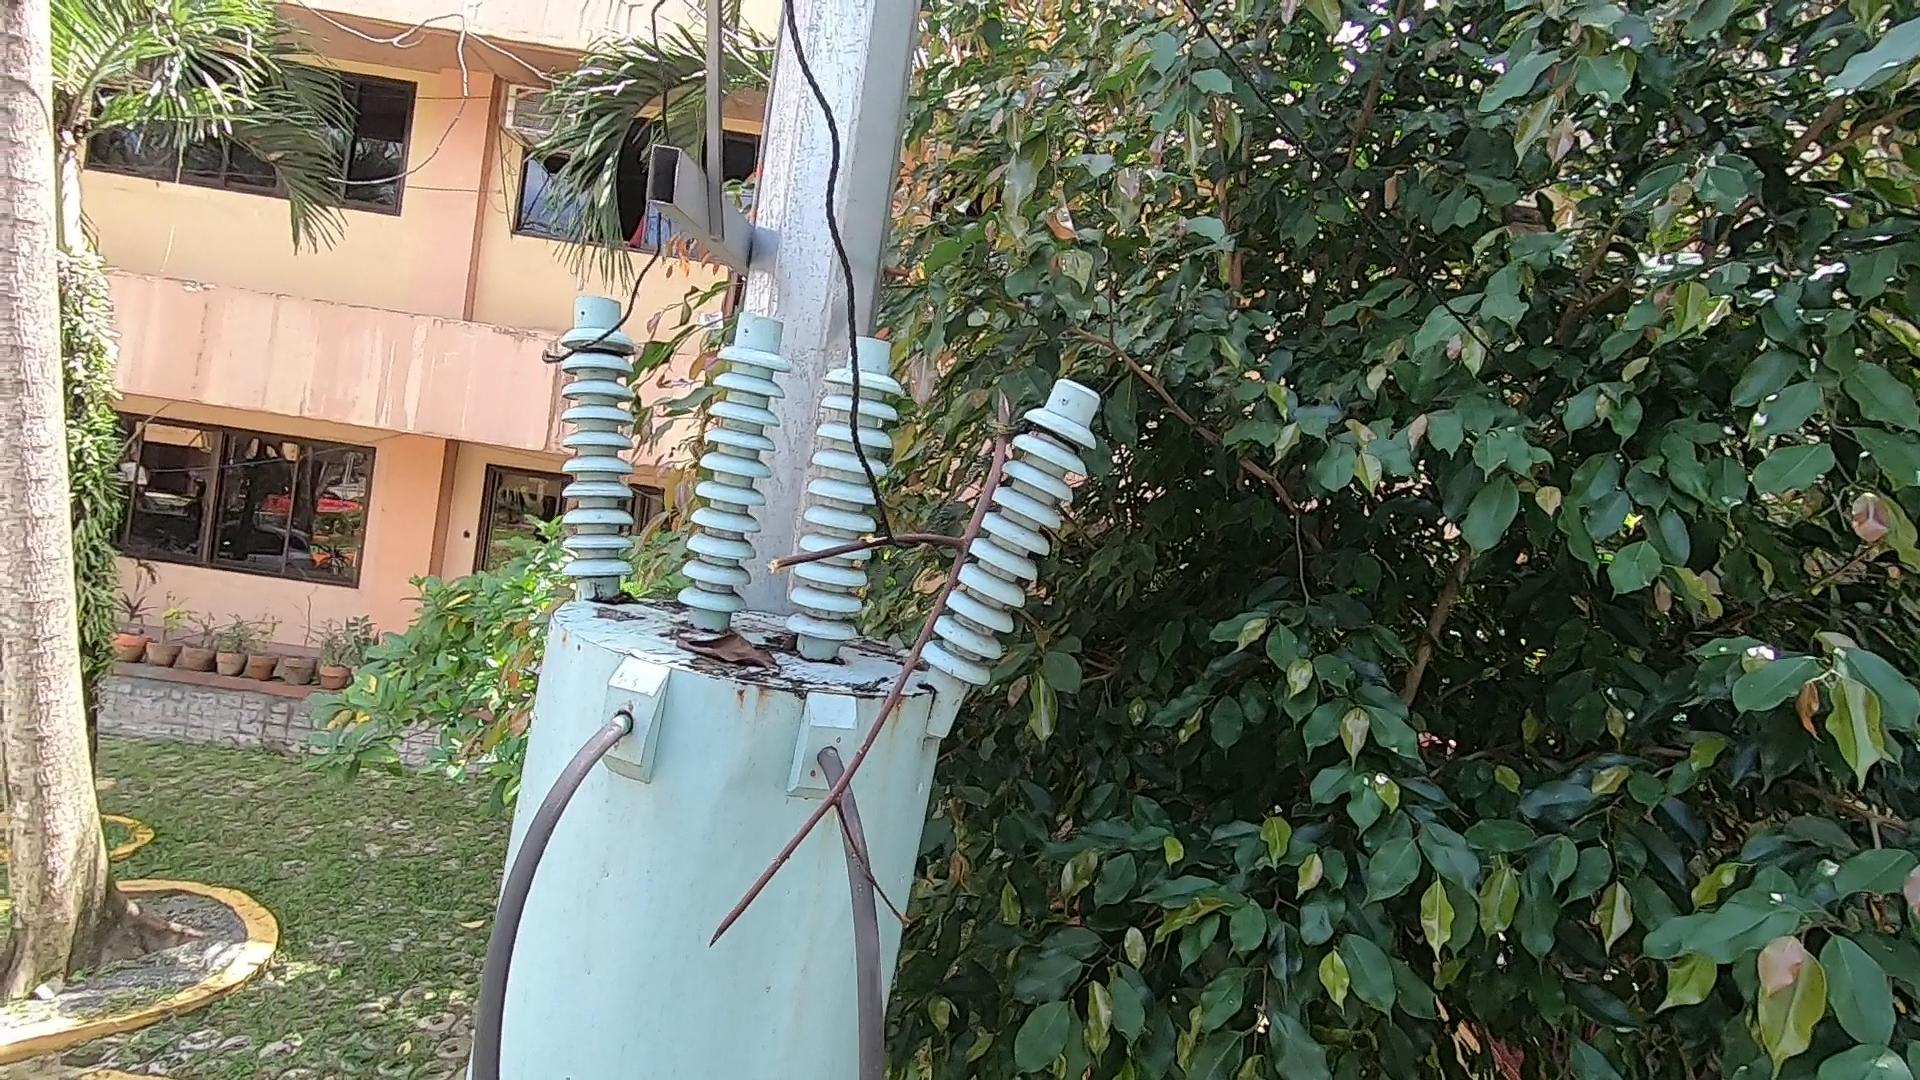leaf: (665, 618, 793, 684)
tree branch: (690, 377, 1083, 953)
